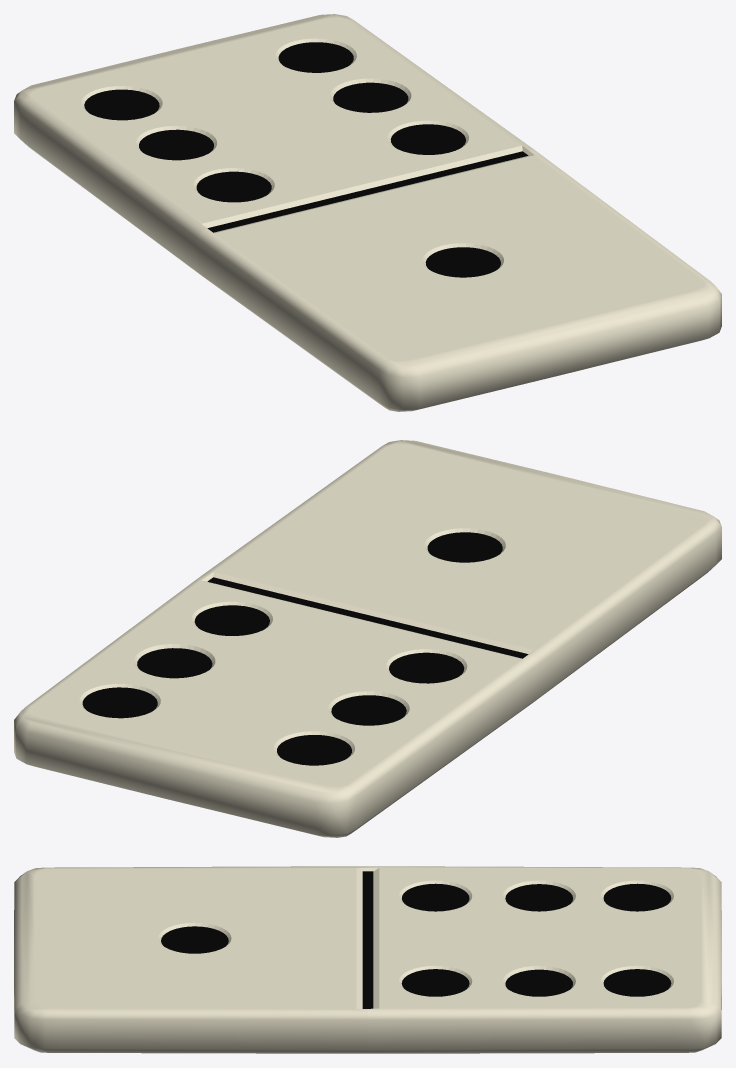
File: Domino_1_6.glb
3 renders of one model, top to bottom at view 1: azimuth 30°, elevation 25°; view 2: azimuth 150°, elevation 25°; view 3: azimuth 270°, elevation 25°, orthographic. The views are drawn at different scales.
Parts seen in each view (by area): view 1: Domino_1_6_A.001, Domino_1_6_B.001; view 2: Domino_1_6_B.001, Domino_1_6_A.001; view 3: Domino_1_6_A.001, Domino_1_6_B.001.
Part boxes in pixels (x1,y1,x2,y2): Domino_1_6_A.001: [197, 149, 721, 411]; Domino_1_6_B.001: [14, 14, 533, 276]; Domino_1_6_B.001: [14, 575, 538, 837]; Domino_1_6_A.001: [202, 440, 721, 702]; Domino_1_6_A.001: [14, 866, 367, 1053]; Domino_1_6_B.001: [368, 866, 721, 1053].
Bounding box in the file's own units: 0.7725 × 0.1053 × 1.54.
